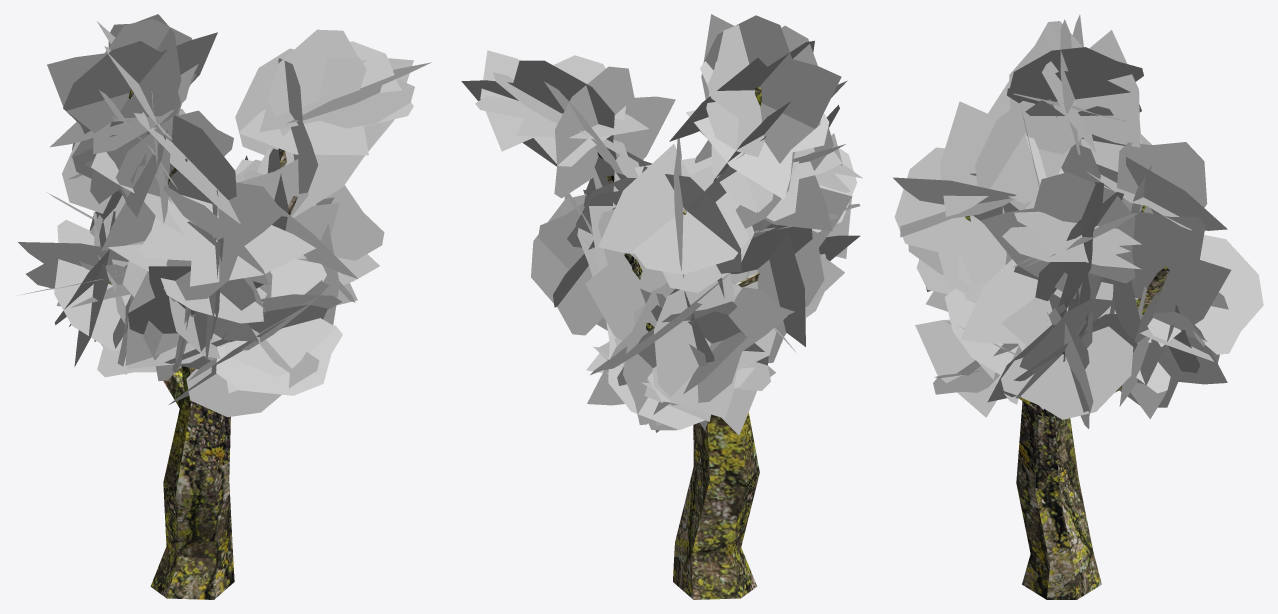
File: Tree2.fbx
3 renders of one model, left to right at view 1: azimuth 30°, elevation 25°; view 2: azimuth 150°, elevation 25°; view 3: azimuth 270°, elevation 25°, orthographic. The views are drawn at different scales.
Parts seen in each view (by area): view 1: Tree.002, Tree.002|Branch|Dupli|4, Tree.002|Branch|Dupli|39, Tree.002|Branch|Dupli|77, Tree.002|Branch|Dupli|14, Tree.002|Branch|Dupli|2, Tree.002|Branch|Dupli|20, Tree.002|Branch|Dupli|5, Tree.002|Branch|Dupli|12, Tree.002|Branch|Dupli|41, Tree.002|Branch|Dupli|68, Tree.002|Branch|Dupli|8 (+35 smaller); view 2: Tree.002, Tree.002|Branch|Dupli|, Tree.002|Branch|Dupli|26, Tree.002|Branch|Dupli|12, Tree.002|Branch|Dupli|24, Tree.002|Branch|Dupli|66, Tree.002|Branch|Dupli|42, Tree.002|Branch|Dupli|6, Tree.002|Branch|Dupli|5, Tree.002|Branch|Dupli|8, Tree.002|Branch|Dupli|55, Tree.002|Branch|Dupli|71 (+35 smaller); view 3: Tree.002, Tree.002|Branch|Dupli|53, Tree.002|Branch|Dupli|42, Tree.002|Branch|Dupli|21, Tree.002|Branch|Dupli|35, Tree.002|Branch|Dupli|15, Tree.002|Branch|Dupli|, Tree.002|Branch|Dupli|62, Tree.002|Branch|Dupli|48, Tree.002|Branch|Dupli|27, Tree.002|Branch|Dupli|72, Tree.002|Branch|Dupli|18 (+32 smaller).
Boxes of the visible parts, x1,y1,x2,y2 form: Tree.002: (108, 89, 297, 599); Tree.002|Branch|Dupli|4: (235, 48, 384, 217); Tree.002|Branch|Dupli|39: (139, 183, 315, 286); Tree.002|Branch|Dupli|77: (224, 259, 336, 393); Tree.002|Branch|Dupli|14: (63, 32, 217, 139); Tree.002|Branch|Dupli|2: (239, 41, 413, 155); Tree.002|Branch|Dupli|20: (101, 110, 233, 251); Tree.002|Branch|Dupli|5: (267, 29, 413, 163); Tree.002|Branch|Dupli|12: (47, 18, 195, 133); Tree.002|Branch|Dupli|41: (163, 182, 284, 301); Tree.002|Branch|Dupli|68: (54, 220, 130, 351); Tree.002|Branch|Dupli|8: (107, 14, 181, 182); Tree.002: (597, 86, 761, 599); Tree.002|Branch|Dupli|: (554, 66, 675, 198); Tree.002|Branch|Dupli|26: (598, 144, 754, 292); Tree.002|Branch|Dupli|12: (703, 15, 841, 128); Tree.002|Branch|Dupli|24: (612, 157, 749, 274); Tree.002|Branch|Dupli|66: (653, 273, 756, 435); Tree.002|Branch|Dupli|42: (585, 209, 667, 340); Tree.002|Branch|Dupli|6: (480, 50, 625, 166); Tree.002|Branch|Dupli|5: (461, 60, 616, 166); Tree.002|Branch|Dupli|8: (707, 24, 814, 158); Tree.002|Branch|Dupli|55: (531, 194, 603, 335); Tree.002|Branch|Dupli|71: (670, 287, 787, 405); Tree.002: (965, 205, 1169, 599); Tree.002|Branch|Dupli|53: (1001, 282, 1133, 419); Tree.002|Branch|Dupli|42: (1131, 210, 1231, 338); Tree.002|Branch|Dupli|21: (940, 80, 1070, 216); Tree.002|Branch|Dupli|35: (894, 147, 1006, 292); Tree.002|Branch|Dupli|15: (1009, 21, 1140, 154); Tree.002|Branch|Dupli|: (981, 172, 1135, 298); Tree.002|Branch|Dupli|62: (1135, 235, 1263, 354); Tree.002|Branch|Dupli|48: (961, 259, 1116, 349); Tree.002|Branch|Dupli|27: (1110, 142, 1207, 213); Tree.002|Branch|Dupli|72: (915, 319, 1036, 417); Tree.002|Branch|Dupli|18: (975, 101, 1034, 254).
Size of the model in its own units: 446 by 658 by 412.
